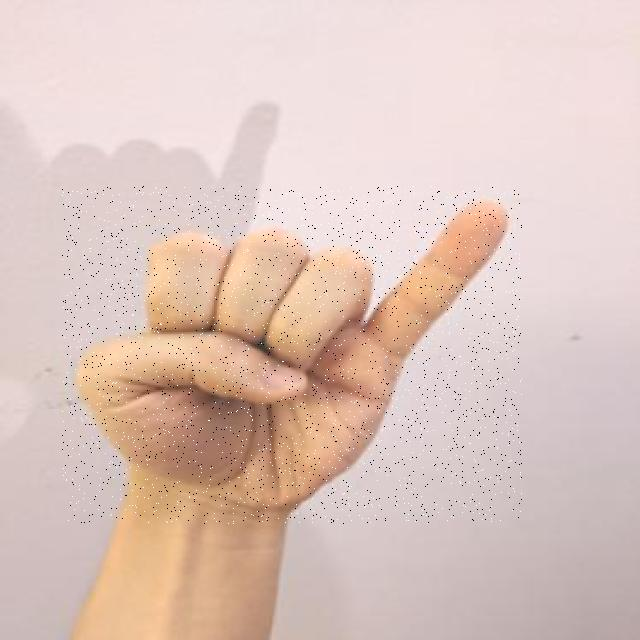I: (62, 186, 522, 524)
